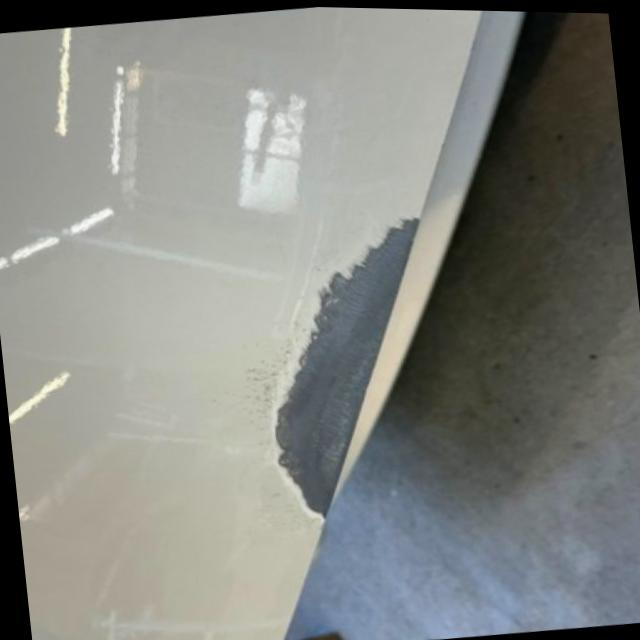Paint-fading: (270, 211, 423, 523)
